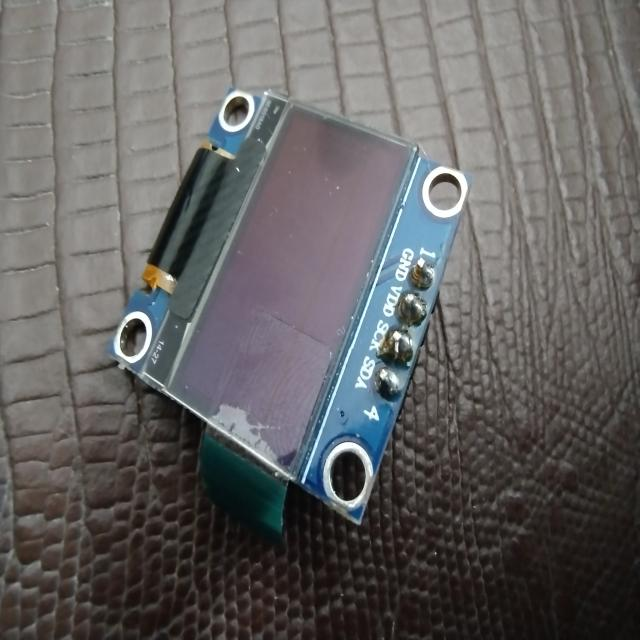oled: (110, 80, 468, 538)
